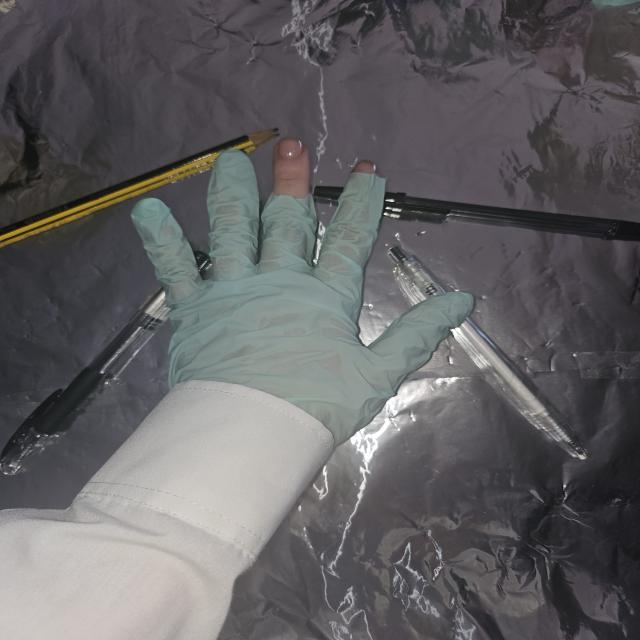gloves_damaged: (127, 136, 479, 440)
